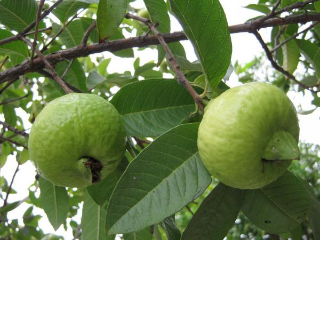oi: (193, 79, 305, 193), (25, 91, 123, 190)
